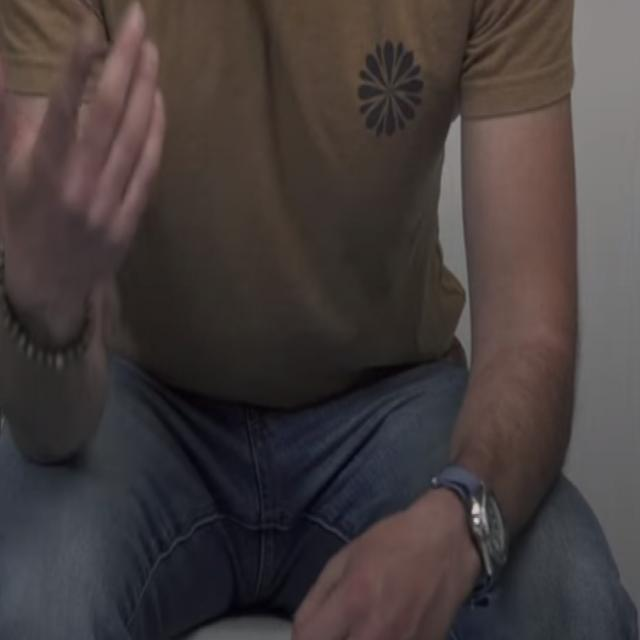Watch: (435, 460, 508, 612)
